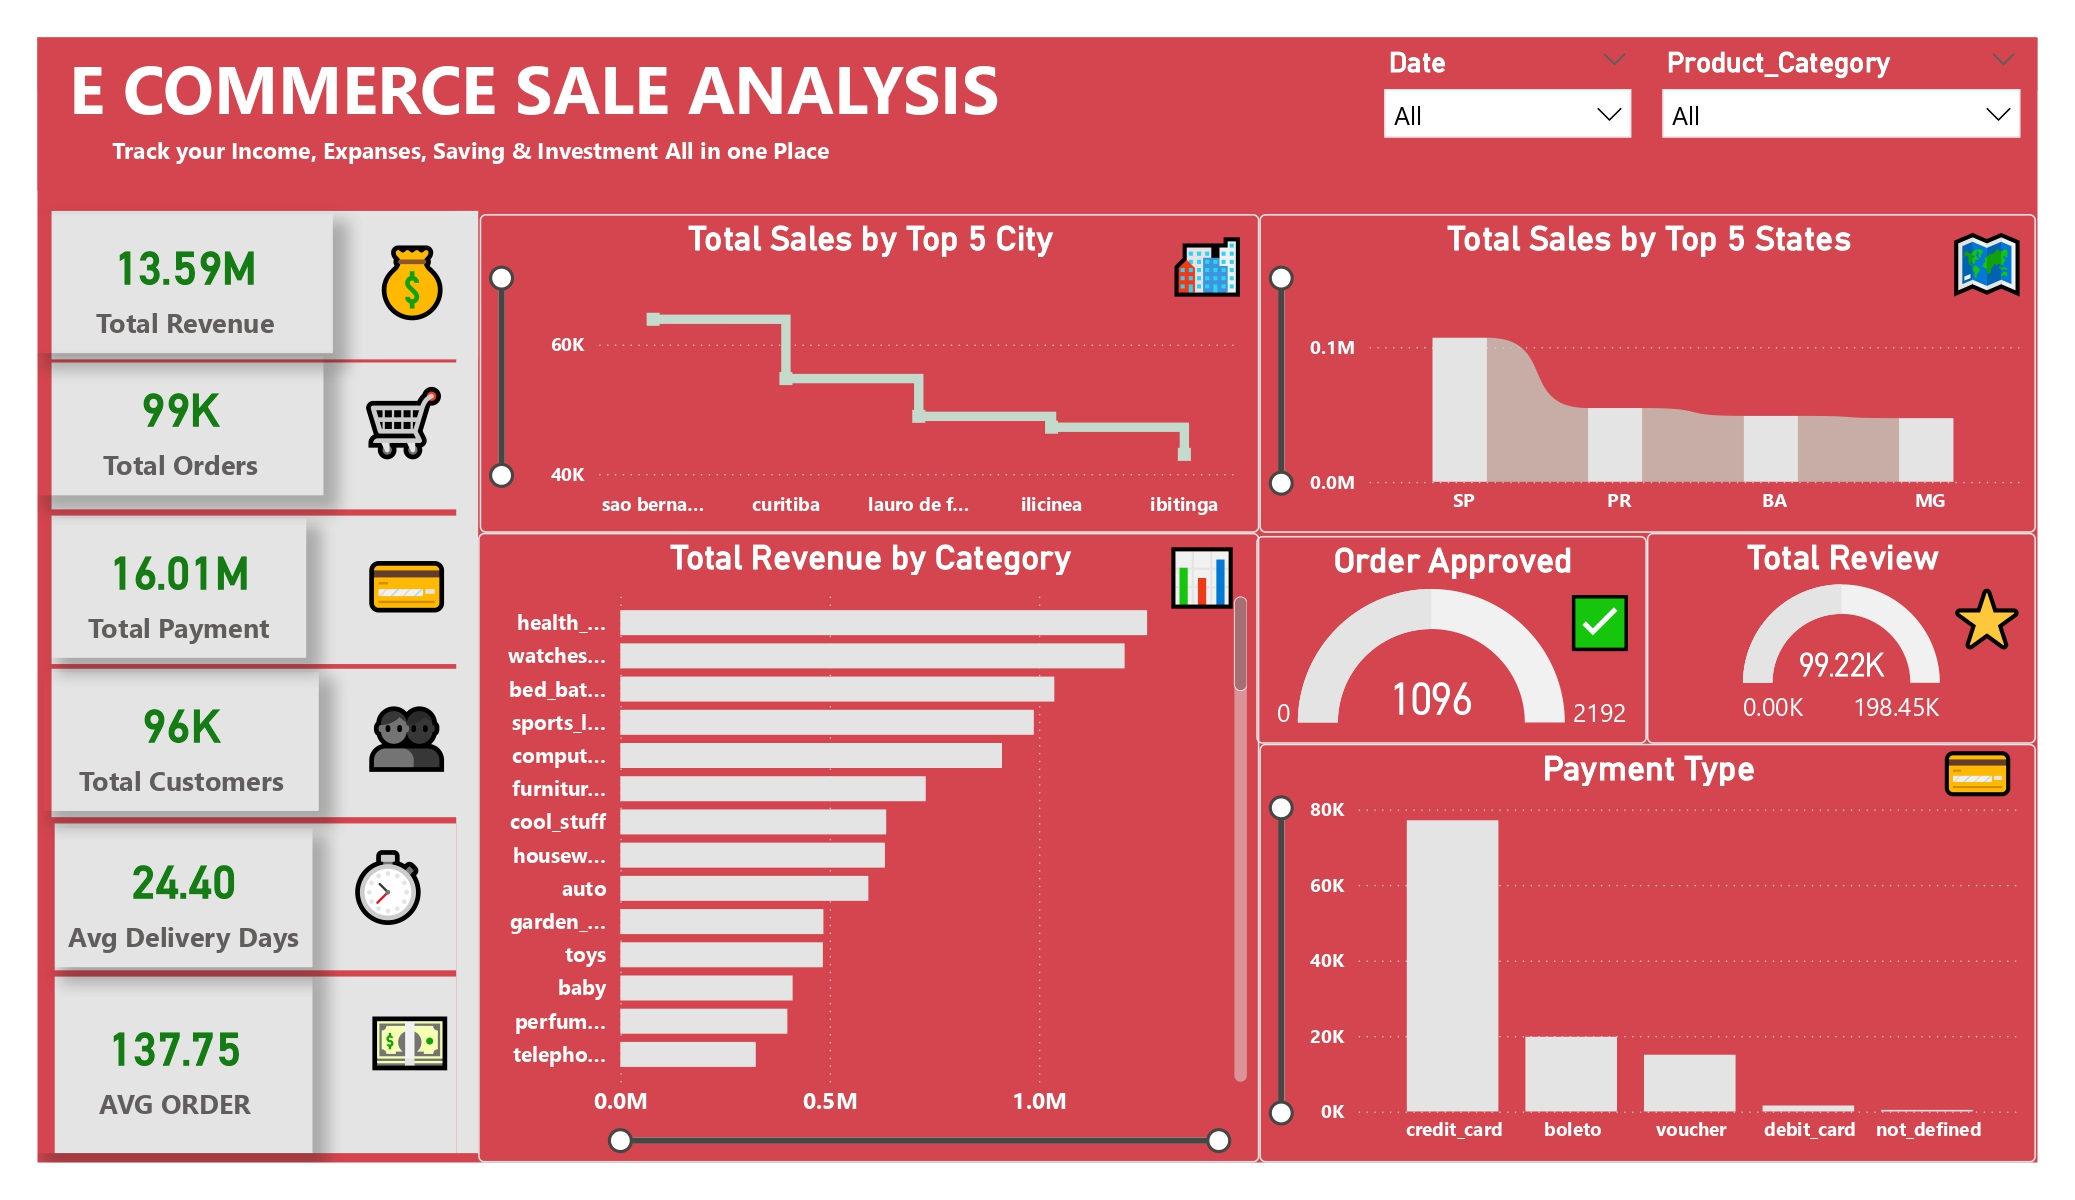

What the dashboard file says about the page in this screenshot:
{"tool":"powerbi","page":{"name":"Dashboard","canvas":[1280,720],"ordinal":0},"visuals":[{"type":"shape","box":[9.4,111.5,272.1,94.5],"z":0},{"type":"shape","box":[0,0,1279.4,62.4],"z":1000},{"type":"shape","box":[0,62.4,1279.4,35.9],"z":2000},{"type":"shape","box":[9.4,207.9,264.6,94.5],"z":3000},{"type":"shape","box":[9.4,306.1,262.7,94.5],"z":4000},{"type":"shape","box":[9.4,404.4,262.7,94.5],"z":5000},{"type":"shape","box":[11.3,502.7,257,94.5],"z":6000},{"type":"shape","box":[11.3,600.9,257,113.4],"z":7000},{"type":"card","fields":{"Values":["Measure Table.Total Revenue"]},"box":[0,113.4,189,88.8],"z":8000},{"type":"card","fields":{"Values":["DateTable.Total Orders"]},"box":[0,204.1,183.3,88.8],"z":9000},{"type":"card","fields":{"Values":["DateTable.AVG ORDER"]},"box":[0,600.9,175.7,113.4],"z":11000},{"type":"card","fields":{"Values":["DateTable.Avg Delivery Days"]},"box":[11.3,506.5,164.4,88.8],"z":12000},{"type":"card","fields":{"Values":["DateTable.Total Payment"]},"box":[9.4,308,162.5,88.8],"z":13000},{"type":"textbox","box":[209.8,120.9,71.8,83.2],"z":14000},{"type":"textbox","box":[200.3,209.8,71.8,83.2],"z":15000},{"type":"textbox","box":[202.2,410.1,71.8,83.2],"z":16000},{"type":"textbox","box":[202.2,313.7,71.8,83.2],"z":17000},{"type":"textbox","box":[204.1,606.6,71.8,83.2],"z":18000},{"type":"textbox","box":[192.8,508.4,81.3,83.2],"z":19000},{"type":"barChart","title":"Total Revenue by Category","fields":{"Category":["Product Category.Product_category_name_english"],"Y":["Measure Table.Total Revenue"]},"box":[281.6,317.5,500.8,402.5],"z":20000},{"type":"lineChart","title":"Total Sales by Top 5 City","fields":{"Category":["olist_sellers_dataset.seller_city"],"Y":["Measure Table.Total Revenue"]},"box":[283.5,113.4,498.9,204.1],"z":21000},{"type":"slicer","fields":{"Values":["DateTable.Date"]},"box":[852.3,0,177.6,98.3],"z":22000},{"type":"slicer","fields":{"Values":["Product Category.Product_category_name"]},"box":[1029.9,0,249.5,98.3],"z":23000},{"type":"ribbonChart","title":"Total Sales by Top 5 States","fields":{"Category":["olist_sellers_dataset.seller_state"],"Y":["Measure Table.Total Revenue"]},"box":[782.4,113.4,497,204.1],"z":24000},{"type":"gauge","title":"Total Review","fields":{"Y":["CountNonNull(olist_order_reviews_dataset.review_answer_timestamp)"]},"box":[1029.9,317.5,249.5,134.2],"z":25000},{"type":"columnChart","title":"Payment Type","fields":{"Y":["Sum(olist_order_payments_dataset.payment_sequential)"],"Category":["olist_order_payments_dataset.payment_type"]},"box":[782.4,451.7,497,268.3],"z":26000},{"type":"gauge","title":"Order Approved","fields":{"Y":["CountNonNull(olist_orders_dataset.order_approved_at.Variation.Date Hierarchy.Year)"]},"box":[780.5,319.4,249.5,132.3],"z":27000},{"type":"textbox","box":[973.2,345.8,62.4,60.5],"z":28000},{"type":"textbox","box":[1217,113.4,62.4,60.5],"z":29000},{"type":"textbox","box":[718.1,113.4,88.8,60.5],"z":30000},{"type":"textbox","box":[1211.3,438.4,62.4,60.5],"z":31000},{"type":"textbox","box":[852.3,489.5,62.4,60.5],"z":32000},{"type":"textbox","box":[1217,340.2,62.4,60.5],"z":33000},{"type":"textbox","box":[716.2,313.7,62.4,60.5],"z":34000},{"type":"card","fields":{"Values":["DateTable.Total Customers"]},"box":[3.8,406.3,175.7,88.8],"z":41001},{"type":"shape","box":[268.3,111.5,13.2,602.8],"z":41002}]}

Visuals, with their boxes on the page's 1280x720 design canvas (x1, y1, x2, y2). These are canvas units, not pixel positions in the 2075x1200 screenshot, which may show the page scaled, cropped or inside an application window:
shape: bbox(9, 112, 282, 206)
shape: bbox(0, 0, 1279, 62)
shape: bbox(0, 62, 1279, 98)
shape: bbox(9, 208, 274, 302)
shape: bbox(9, 306, 272, 401)
shape: bbox(9, 404, 272, 499)
shape: bbox(11, 503, 268, 597)
shape: bbox(11, 601, 268, 714)
card - Measure Table.Total Revenue: bbox(0, 113, 189, 202)
card - DateTable.Total Orders: bbox(0, 204, 183, 293)
card - DateTable.AVG ORDER: bbox(0, 601, 176, 714)
card - DateTable.Avg Delivery Days: bbox(11, 506, 176, 595)
card - DateTable.Total Payment: bbox(9, 308, 172, 397)
textbox: bbox(210, 121, 282, 204)
textbox: bbox(200, 210, 272, 293)
textbox: bbox(202, 410, 274, 493)
textbox: bbox(202, 314, 274, 397)
textbox: bbox(204, 607, 276, 690)
textbox: bbox(193, 508, 274, 592)
"Total Revenue by Category" barChart: bbox(282, 318, 782, 720)
"Total Sales by Top 5 City" lineChart: bbox(284, 113, 782, 318)
slicer - DateTable.Date: bbox(852, 0, 1030, 98)
slicer - Product Category.Product_category_name: bbox(1030, 0, 1279, 98)
"Total Sales by Top 5 States" ribbonChart: bbox(782, 113, 1279, 318)
"Total Review" gauge: bbox(1030, 318, 1279, 452)
"Payment Type" columnChart: bbox(782, 452, 1279, 720)
"Order Approved" gauge: bbox(780, 319, 1030, 452)
textbox: bbox(973, 346, 1036, 406)
textbox: bbox(1217, 113, 1279, 174)
textbox: bbox(718, 113, 807, 174)
textbox: bbox(1211, 438, 1274, 499)
textbox: bbox(852, 490, 915, 550)
textbox: bbox(1217, 340, 1279, 401)
textbox: bbox(716, 314, 779, 374)
card - DateTable.Total Customers: bbox(4, 406, 180, 495)
shape: bbox(268, 112, 282, 714)
